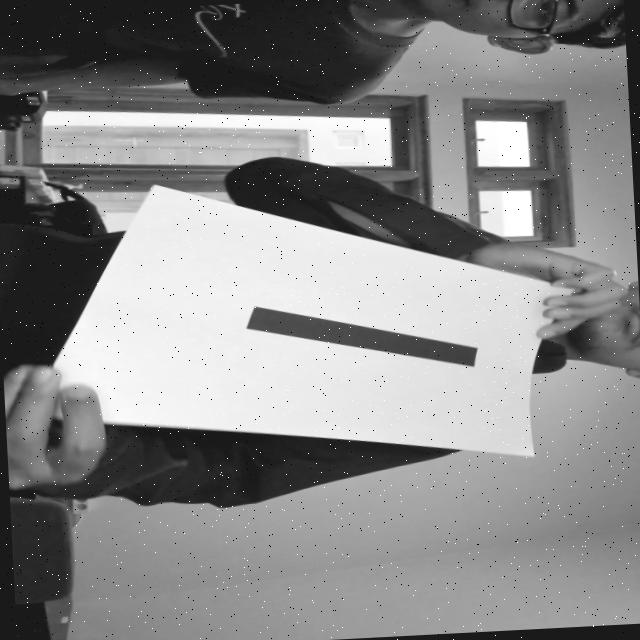i: (224, 290, 489, 396)
